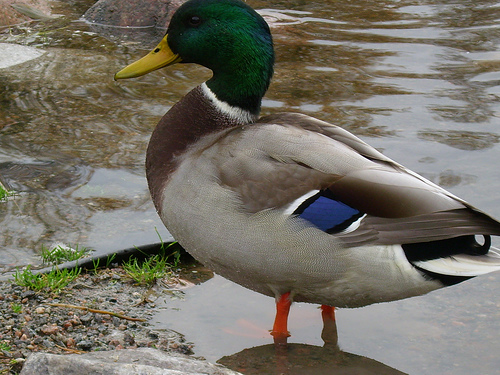duck: (93, 1, 500, 375)
